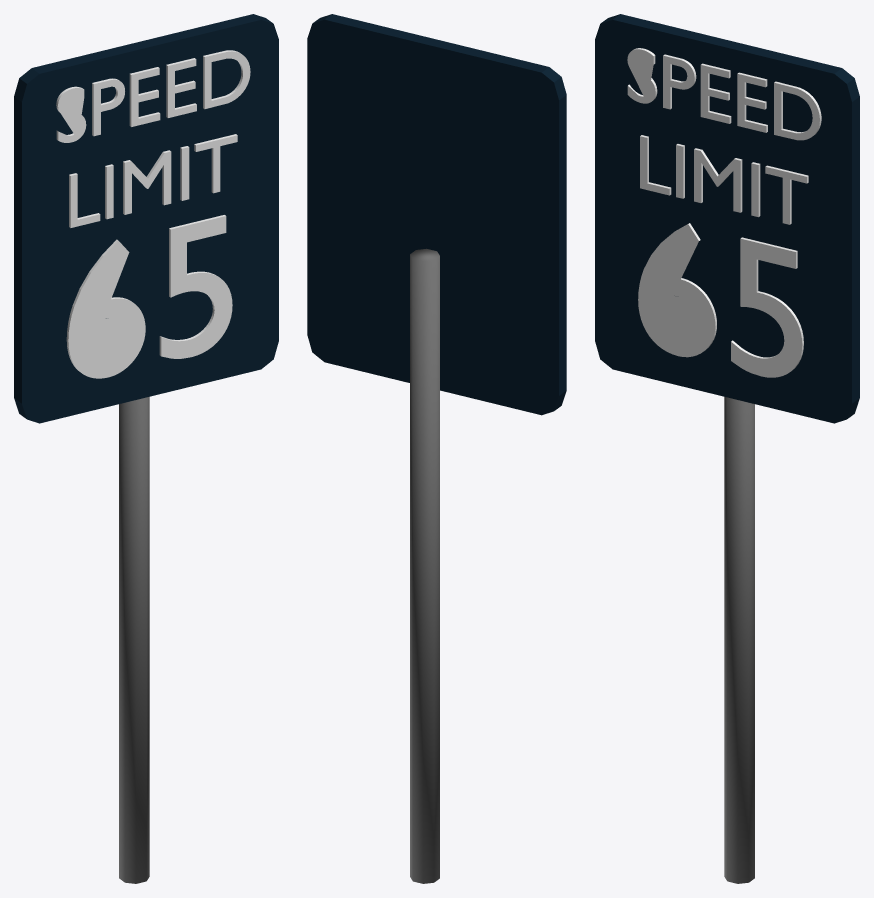
File: Prop_StreetSign_Speed_65.fbx
3 renders of one model, left to right at view 1: azimuth 30°, elevation 25°; view 2: azimuth 150°, elevation 25°; view 3: azimuth 330°, elevation 25°, orthographic. The views are drawn at different scales.
Parts seen in each view (by area): view 1: Prop_StreetSign_Speed_65; view 2: Prop_StreetSign_Speed_65; view 3: Prop_StreetSign_Speed_65.
Part boxes in pixels (box(x1,y1,x2,y2)): Prop_StreetSign_Speed_65: box(14, 14, 278, 883); Prop_StreetSign_Speed_65: box(307, 14, 566, 883); Prop_StreetSign_Speed_65: box(595, 14, 859, 883).
Bounding box in the file's own units: 140 × 438 × 23.65.
